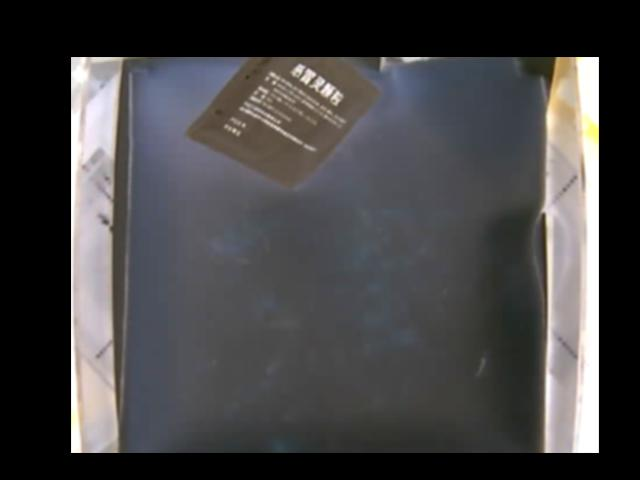Medicine: (185, 57, 381, 191)
